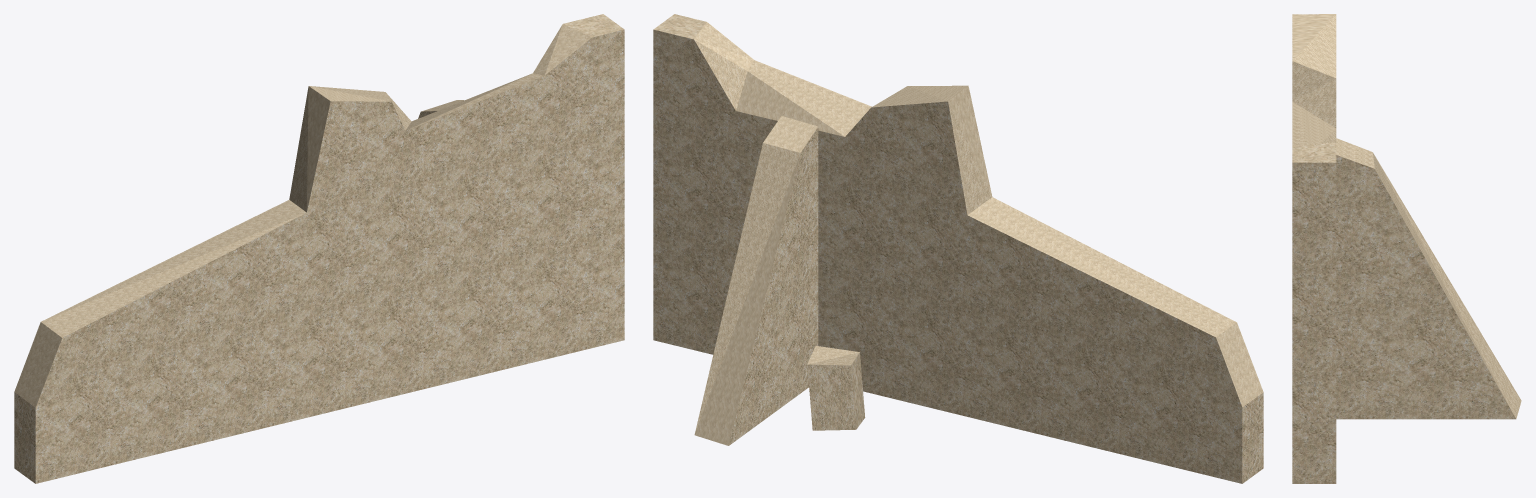
Rendered from thm_tato_imprv_wall_ruin_s03_l3.fbx.
The picture shows the model from 3 angles, left to right: view 1: azimuth 30°, elevation 25°; view 2: azimuth 150°, elevation 25°; view 3: azimuth 270°, elevation 25°; orthographic projection. The views are drawn at different scales.
Parts seen in each view (by area): view 1: mesh_node; view 2: mesh_node; view 3: mesh_node.
Part boxes in pixels (<box>): mesh_node: <box>14,14,624,483</box>; mesh_node: <box>653,14,1263,483</box>; mesh_node: <box>1292,14,1521,483</box>.
Bounding box in the file's own units: 8 × 4.32 × 2.61.
